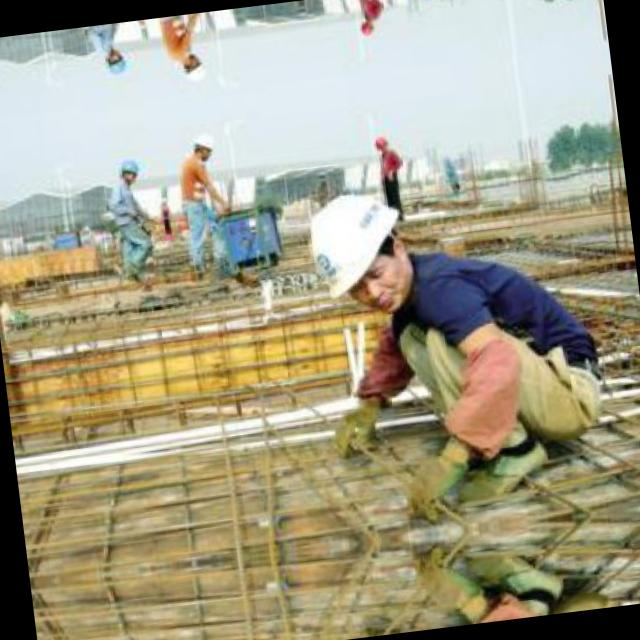helmet: (294, 175, 424, 328), (96, 45, 130, 79), (110, 155, 143, 189), (188, 131, 216, 163), (179, 52, 207, 84), (371, 132, 394, 158), (356, 14, 379, 38)
